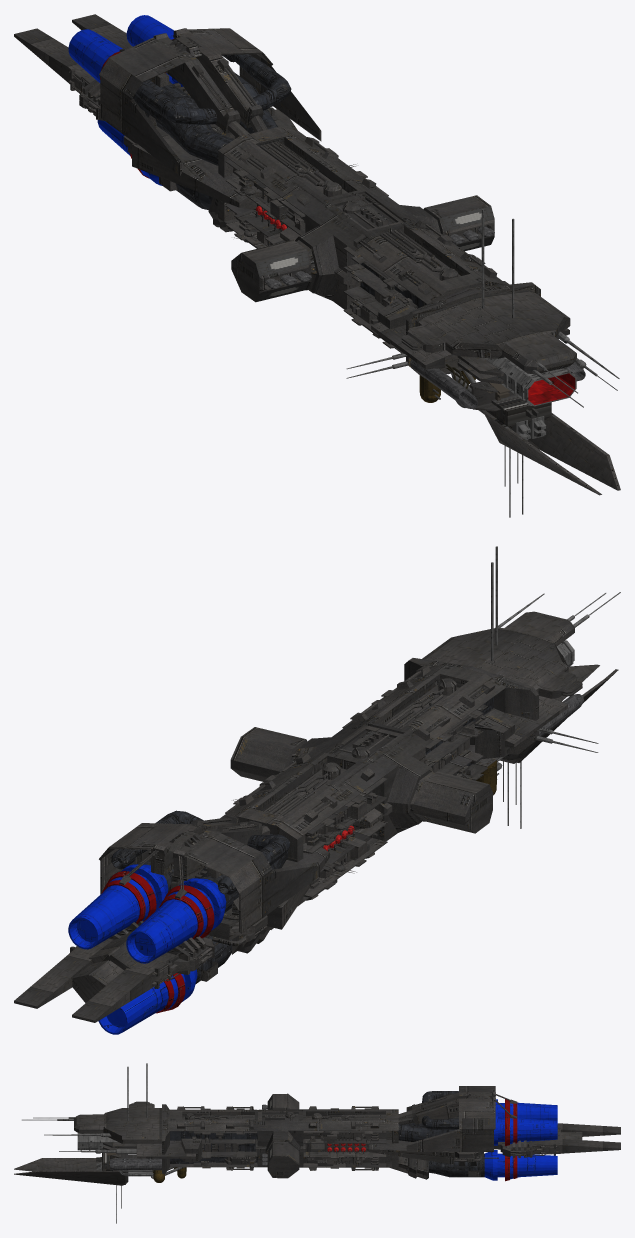
The model's file is raider-nova.glb.
3 views of the same model, one above another, from view 1: azimuth 30°, elevation 25°; view 2: azimuth 150°, elevation 25°; view 3: azimuth 270°, elevation 25° (orthographic). The views are drawn at different scales.
Parts seen in each view (by area): view 1: nova_body; view 2: nova_body; view 3: nova_body.
Part boxes in pixels (x1,y1,x2,y2): nova_body: [14, 14, 620, 517]; nova_body: [14, 546, 620, 1034]; nova_body: [14, 1063, 620, 1223].
Size of the model in its own units: 360 by 404 by 1415.
14 materials, 14 textured.
